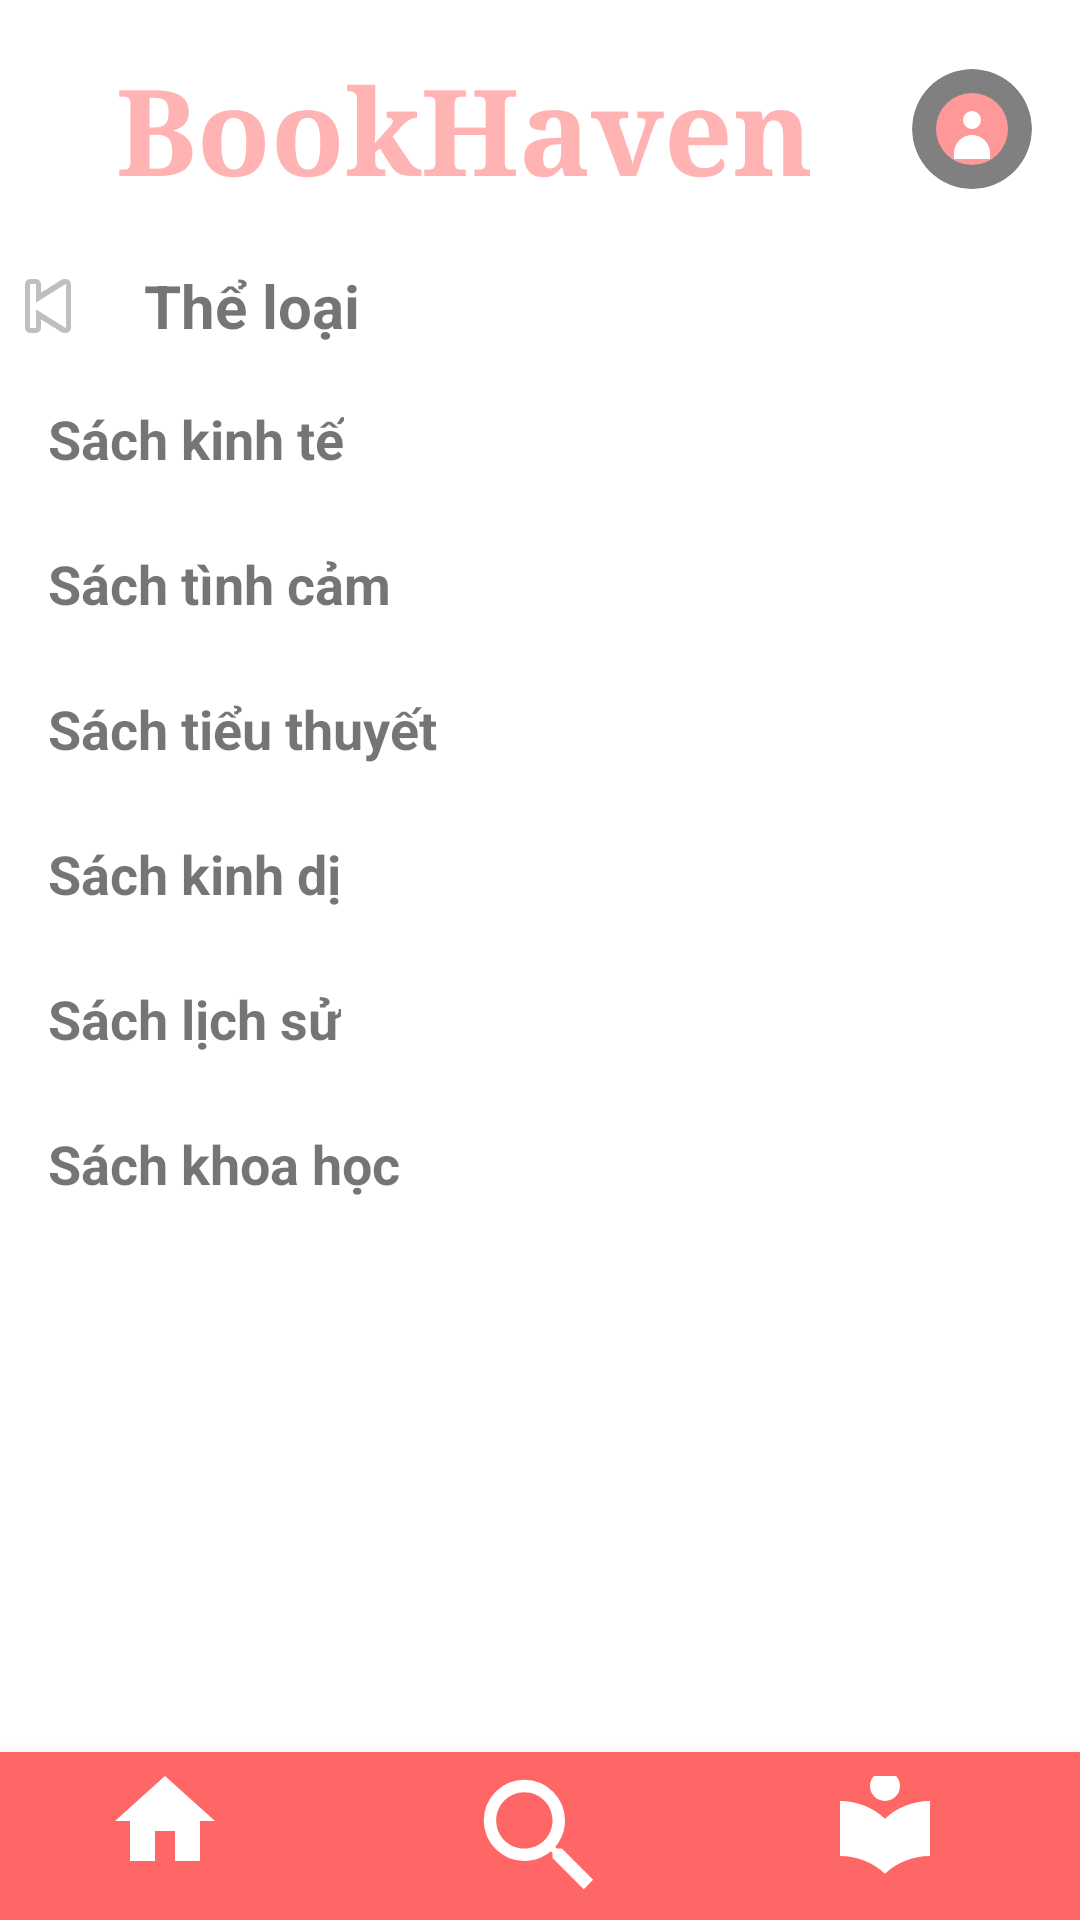

Icon click points for this 1080 x 1920 phone screenshot, format point (x, y):
Quay lại: point (48, 306)
